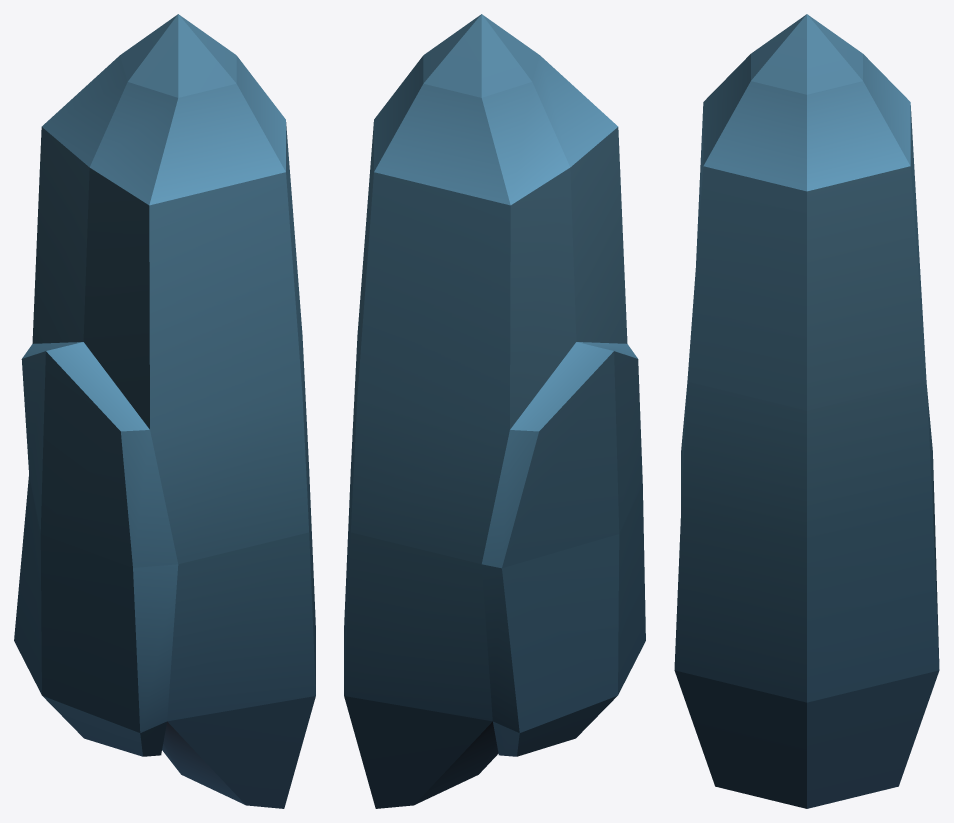
Rendered from geology-crystals-icecrystal_v1.fbx.
3 views of the same model, side by side, from view 1: azimuth 30°, elevation 25°; view 2: azimuth 150°, elevation 25°; view 3: azimuth 270°, elevation 25° (orthographic). The views are drawn at different scales.
Parts seen in each view (by area): view 1: IceCrystal_v1; view 2: IceCrystal_v1; view 3: IceCrystal_v1.
Part boxes in pixels (box(x1,y1,x2,y2)): IceCrystal_v1: box(14, 14, 315, 808); IceCrystal_v1: box(344, 14, 645, 808); IceCrystal_v1: box(674, 14, 939, 808).
Bounding box in the file's own units: 2.21 × 5.95 × 1.92.
